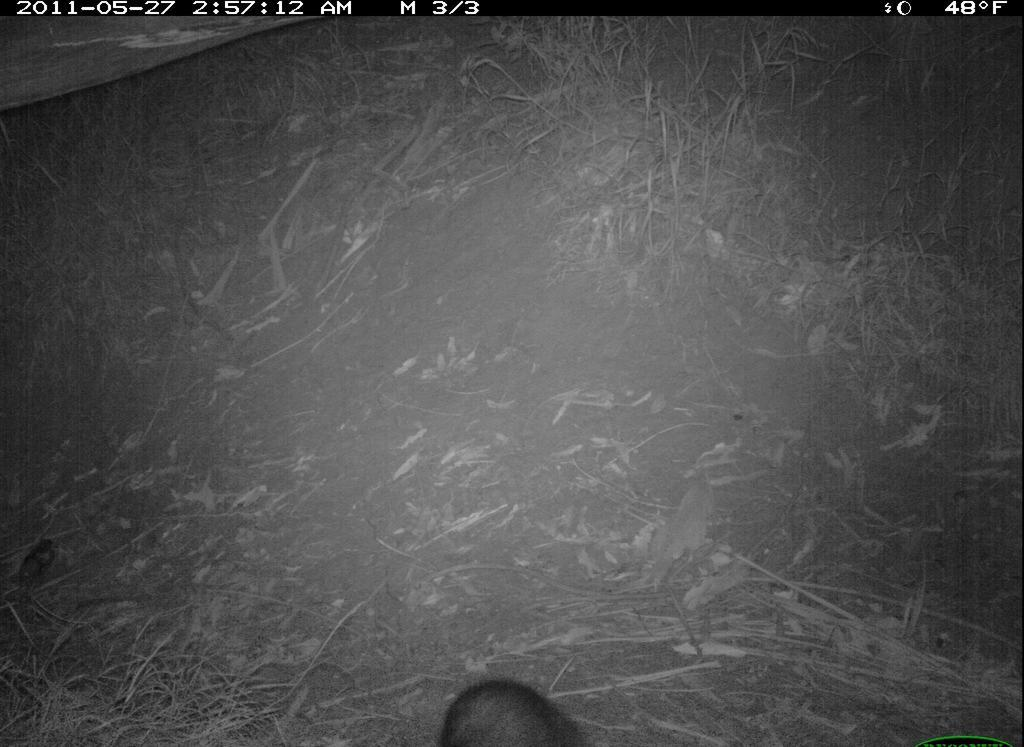raccoon: (423, 671, 613, 747)
